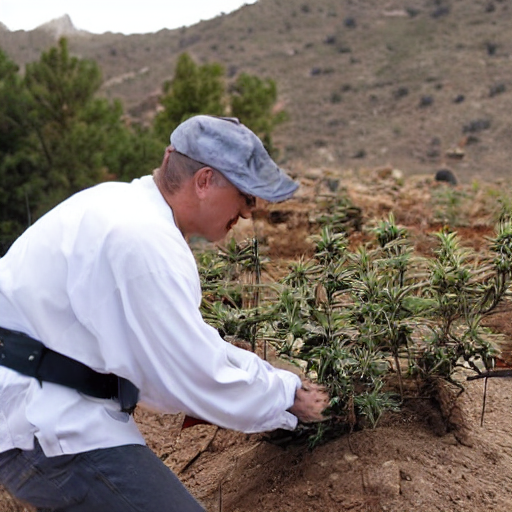Marijuana Joint: (200, 202, 512, 437)
